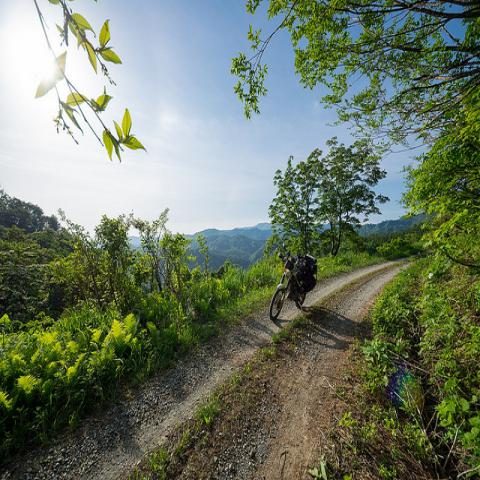motorcycle: (270, 248, 320, 322)
